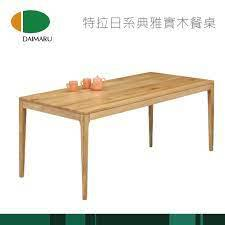desk: (9, 48, 217, 205)
